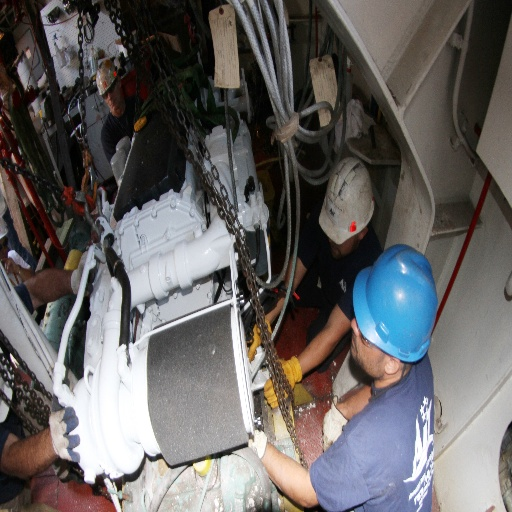hand: (261, 357, 296, 409), (52, 389, 77, 460), (72, 246, 107, 294), (321, 405, 344, 453), (248, 318, 270, 361), (245, 414, 262, 455), (0, 257, 16, 277)
